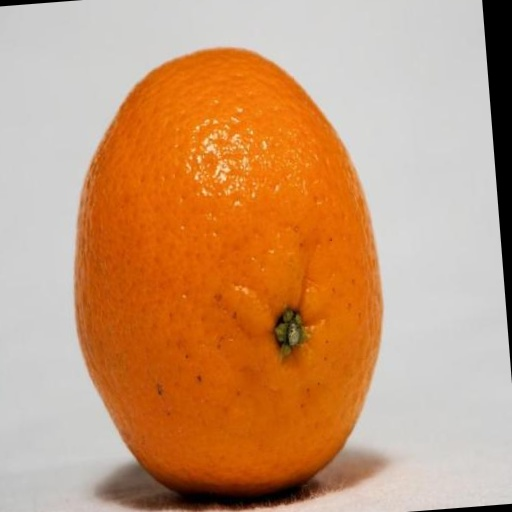fruit: (75, 49, 382, 495)
